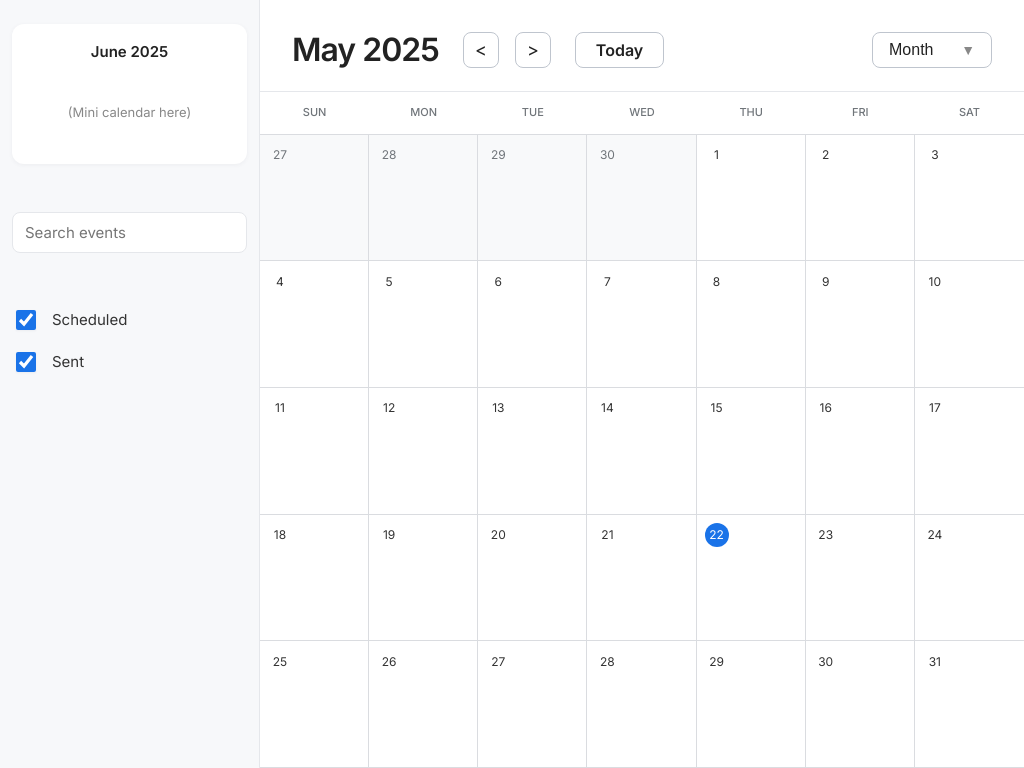
Scenario: MyCalendar › switches between month and week views
Note: Open the view dropdown
Click the button with class "custom-dropdown-btn": (932, 50) [872,32,992,68]
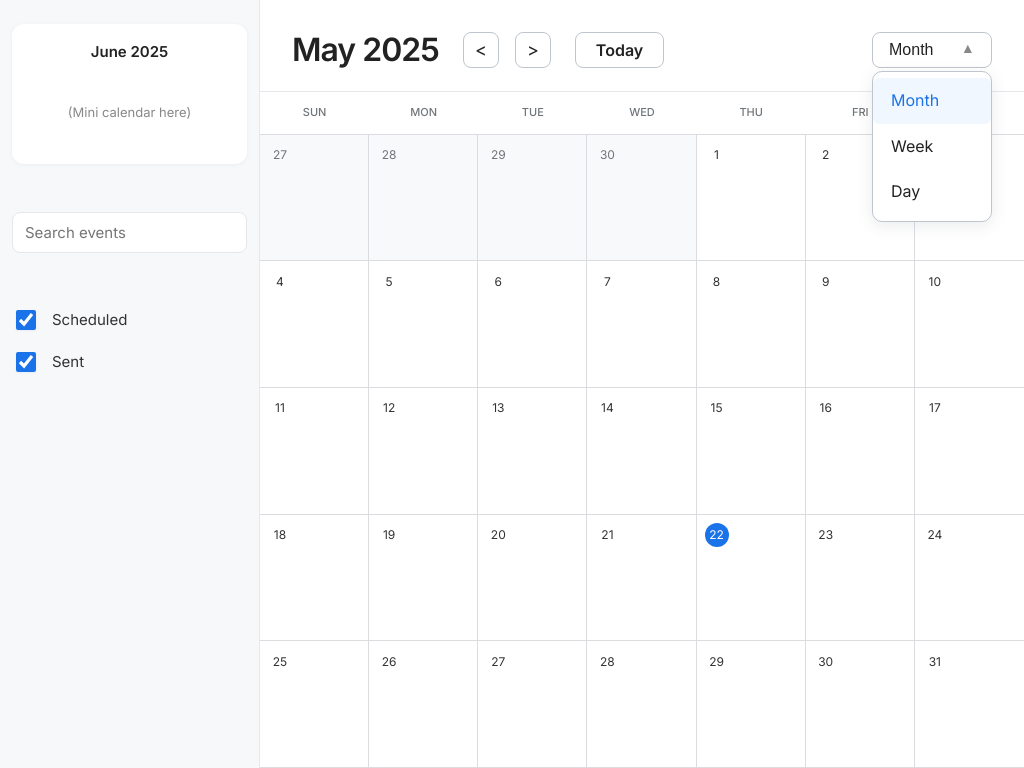
Expected: the list item "Week" is shown
Click the list item "Week": (912, 146) [891,136,933,156]
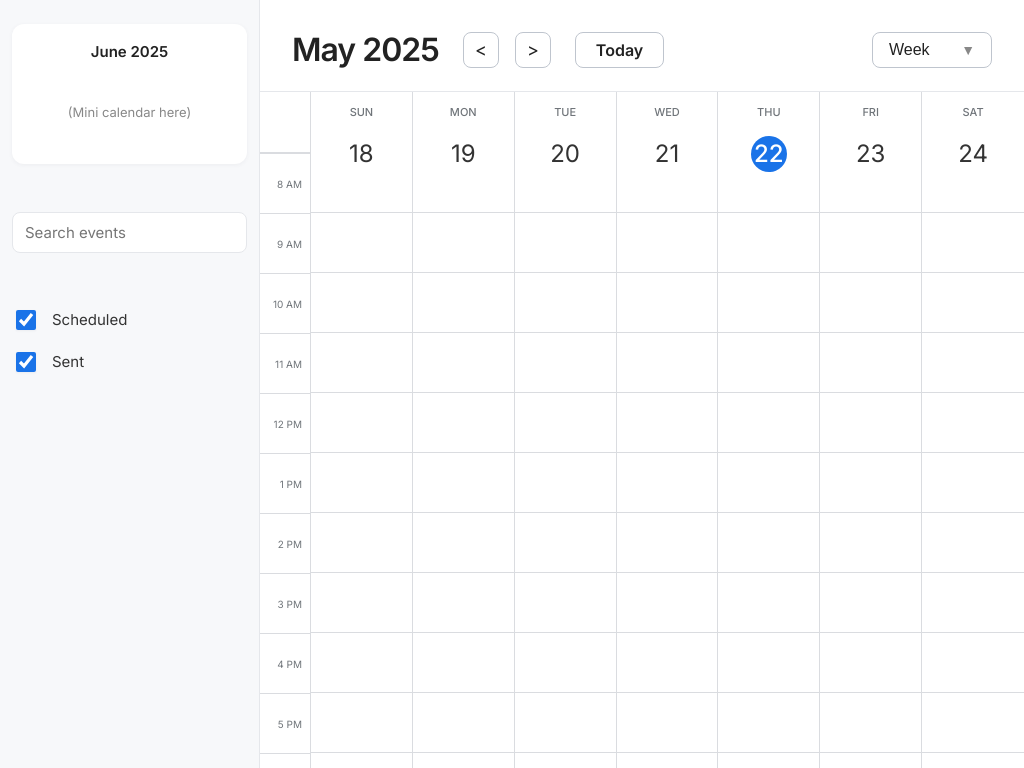
Note: Open the view dropdown again
Click the button with class "custom-dropdown-btn": (932, 50) [872,32,992,68]
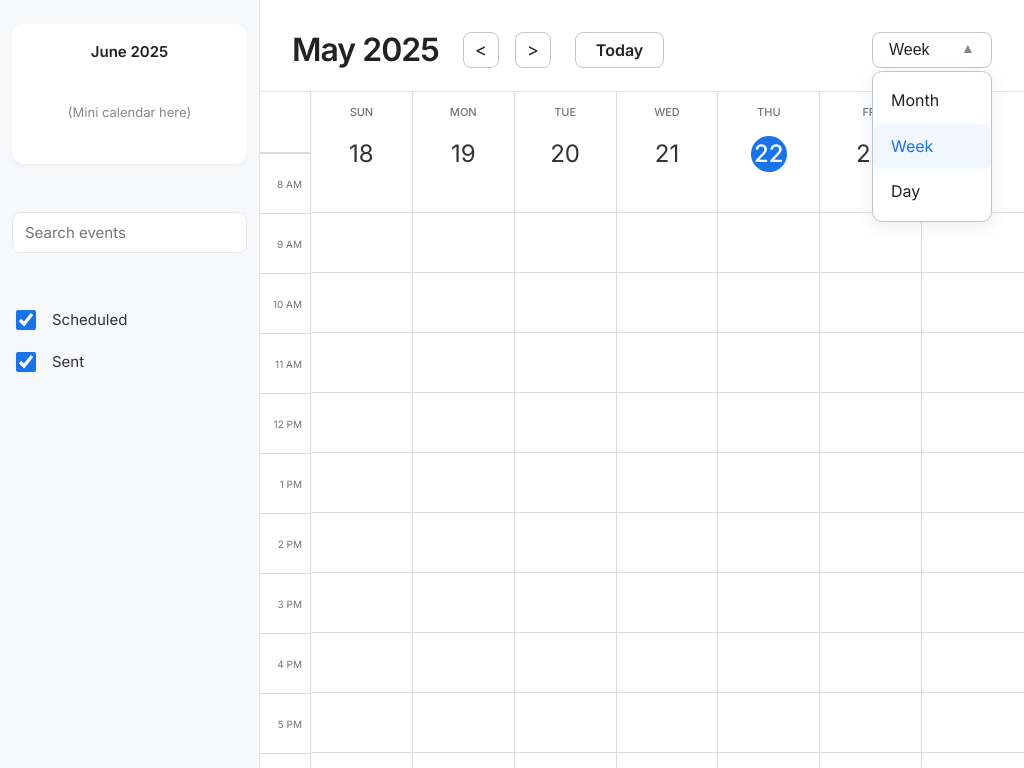
Expected: the list item "Month" is shown
Click the list item "Month": (915, 100) [891,90,939,110]
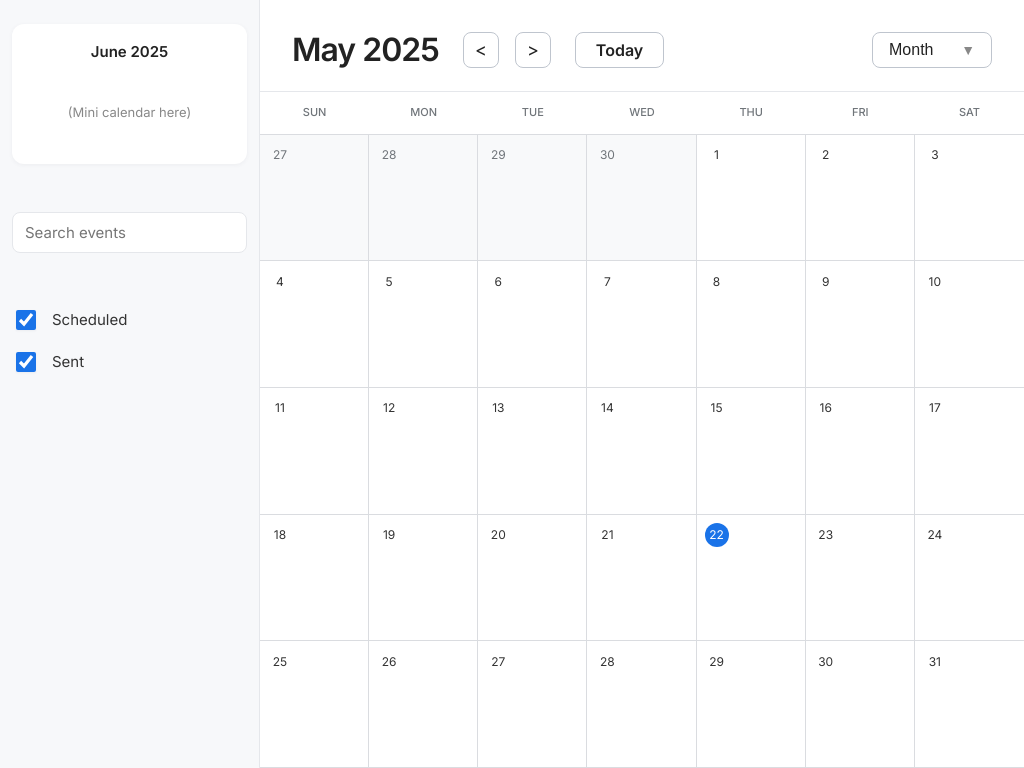
Expected: the element with class "month-view" is shown
